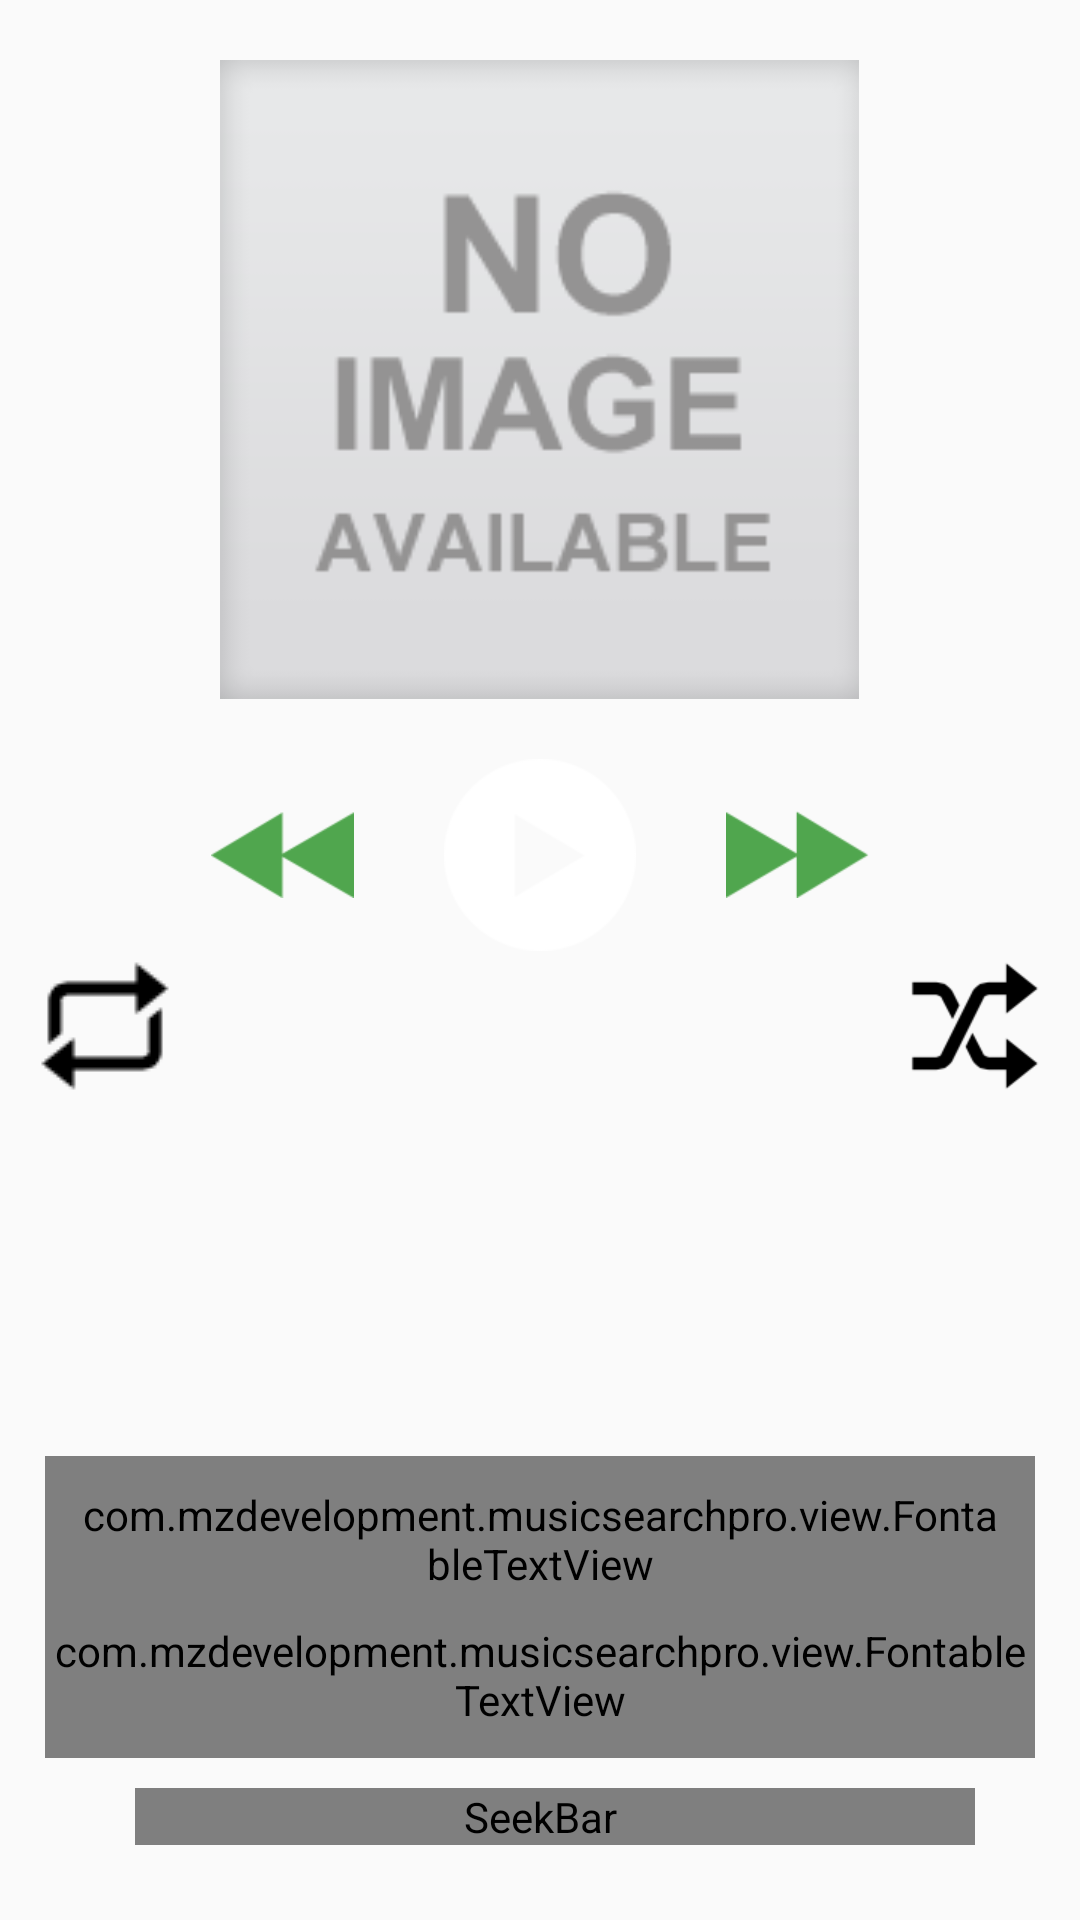

Named icons in this screenshot (1080*1920) and their centers, point (x, y):
player next: point (797, 855)
player previous: point (282, 855)
repeat: point (105, 1026)
shuffle: point (974, 1026)
